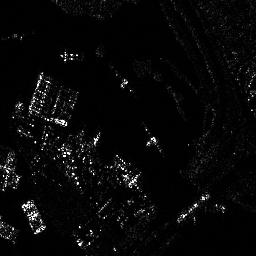ship: (178, 191, 209, 223), (142, 125, 163, 154)
